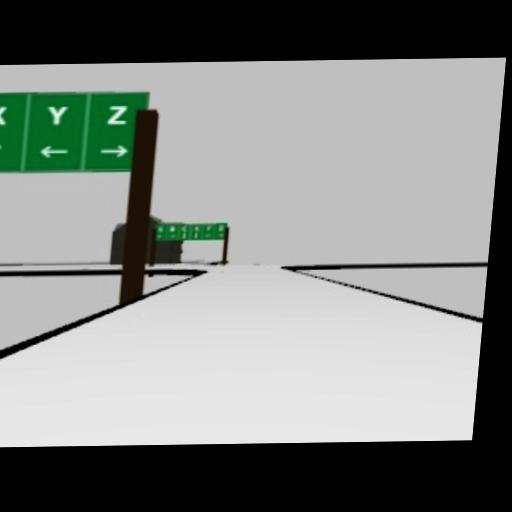Left: (37, 142, 70, 158)
Right: (98, 143, 129, 157)
Straight: (0, 137, 2, 165)
X: (0, 102, 7, 125)
Y: (45, 102, 68, 124)
Z: (106, 103, 129, 125)
